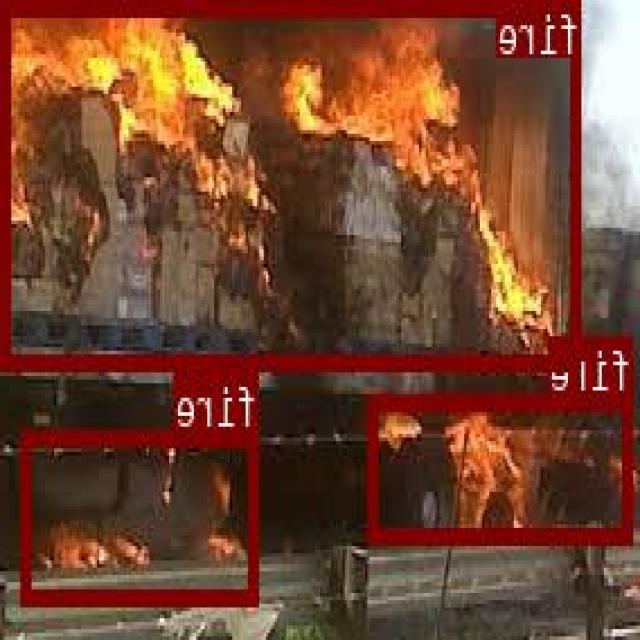fire: (4, 0, 584, 365), (24, 427, 261, 603), (372, 393, 636, 542)
